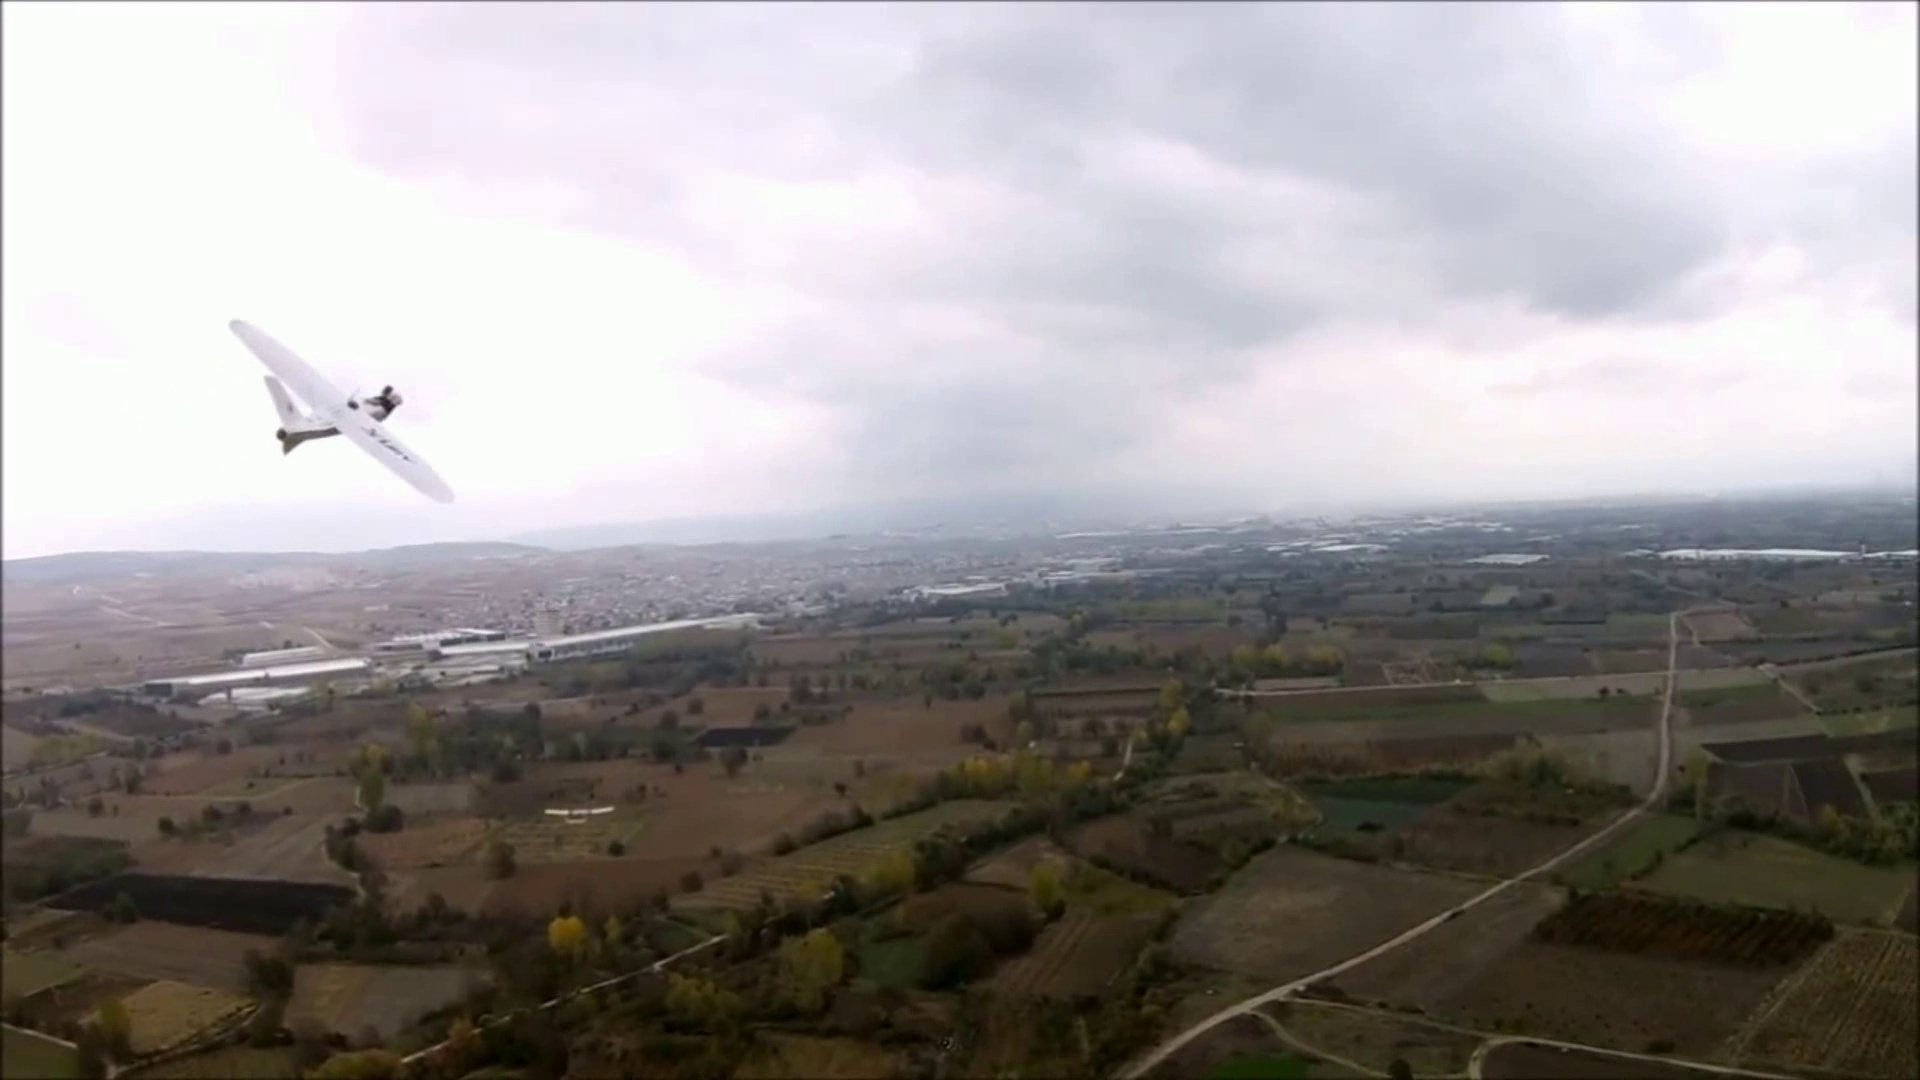airplane: (227, 318, 458, 505)
